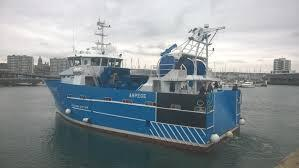Ship: (47, 26, 241, 150)
